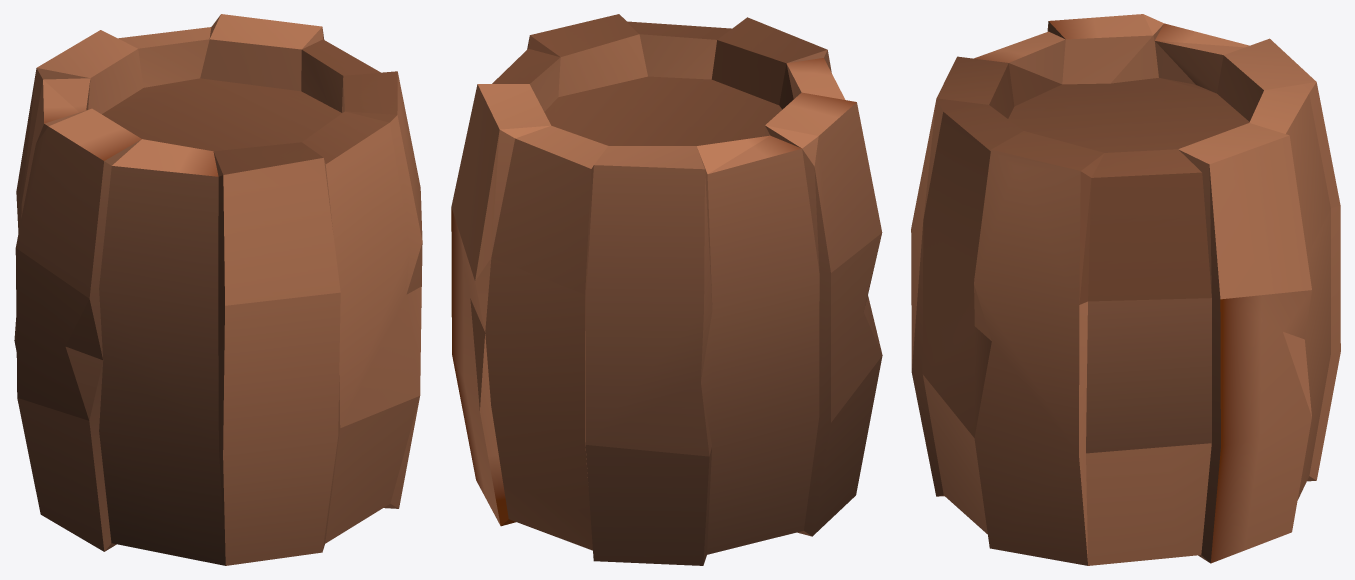
File: Barrel_standing.fbx
The picture shows the model from 3 angles, left to right: view 1: azimuth 30°, elevation 25°; view 2: azimuth 150°, elevation 25°; view 3: azimuth 270°, elevation 25°; orthographic projection.
Visible parts, largest first — view 1: barrelShabby; view 2: barrelShabby; view 3: barrelShabby.
Boxes of the visible parts, bbox=[...] form: barrelShabby: bbox=[14, 14, 422, 565]; barrelShabby: bbox=[451, 14, 882, 565]; barrelShabby: bbox=[911, 14, 1340, 565].
Size of the model in its own units: 102 by 107 by 103.
